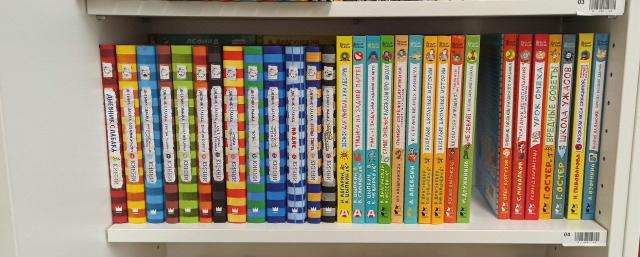book-s-spine: (116, 46, 146, 223), (582, 34, 609, 221), (100, 45, 127, 223), (568, 33, 593, 220), (137, 47, 163, 224), (172, 46, 198, 223), (552, 35, 576, 219), (457, 35, 480, 223), (526, 35, 549, 220), (223, 46, 246, 223), (540, 35, 562, 219), (444, 36, 465, 223), (512, 35, 532, 220), (244, 47, 265, 223), (264, 47, 285, 223), (432, 36, 451, 225), (158, 46, 178, 223), (405, 36, 423, 224), (419, 36, 437, 224), (286, 47, 305, 224), (498, 34, 516, 220), (193, 47, 211, 223), (209, 46, 226, 223), (392, 36, 408, 223), (337, 36, 352, 223), (366, 36, 380, 224), (379, 36, 393, 224), (306, 47, 320, 224), (322, 47, 335, 223), (353, 36, 365, 224)
